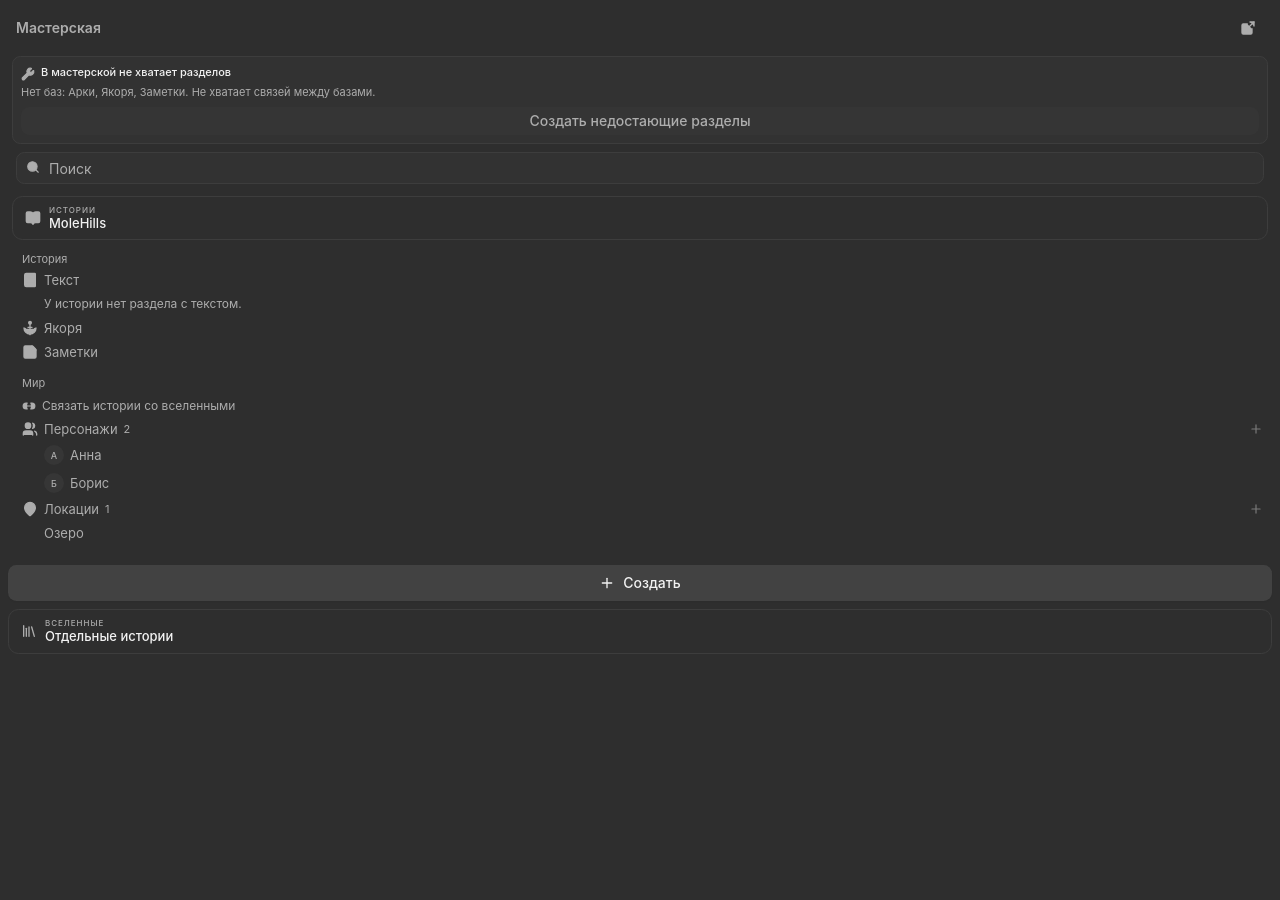
it: CreativePanel: belonging to stories and universes › offers to link the stories to the universes that exist, once
Expected: the button "А Анна" is shown, [8,441,1272,469]
Click the button "Связать истории со вселенными".
click(139, 406)  # box [8,394,1272,417]
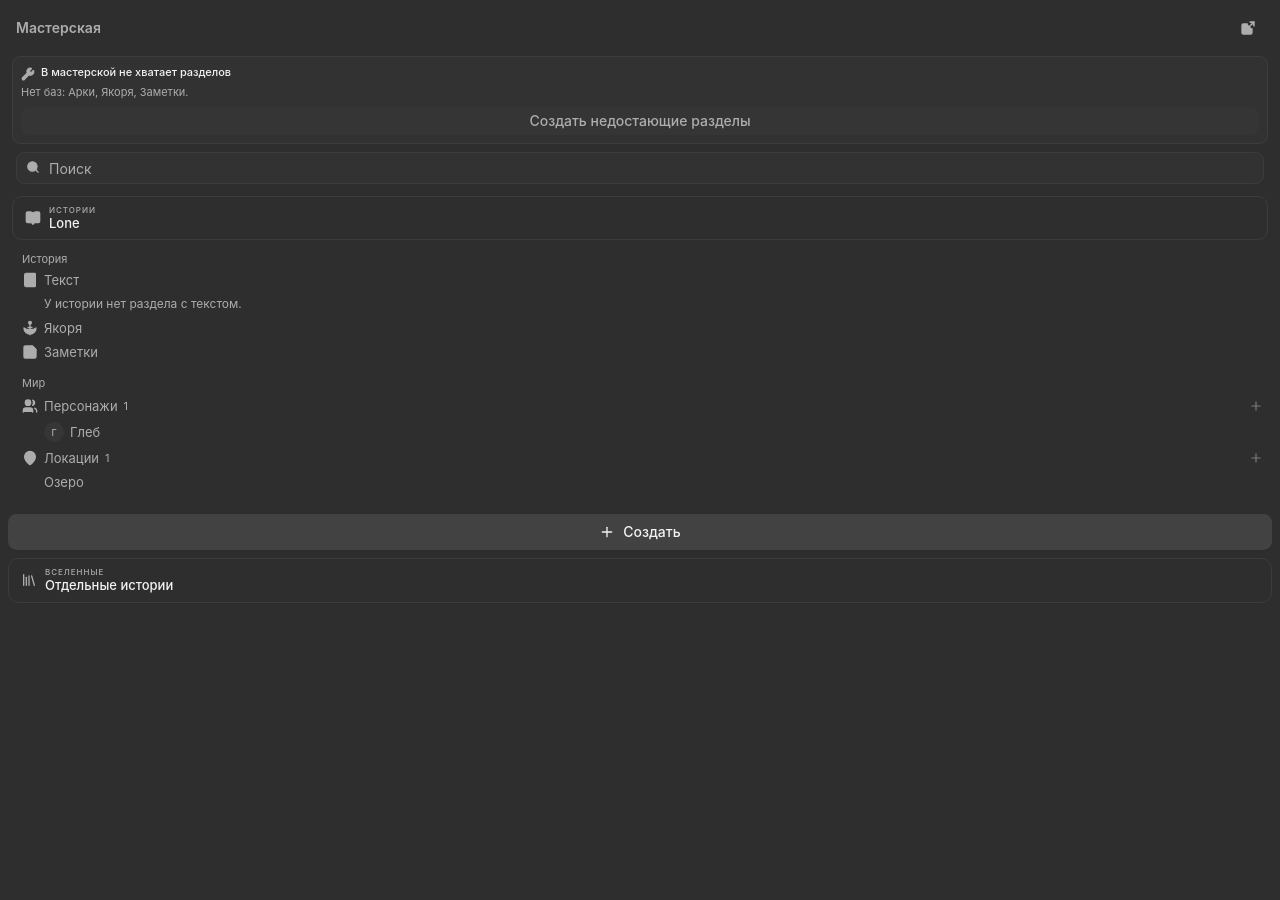
Expected: the button "Связать истории со вселенными" is gone
